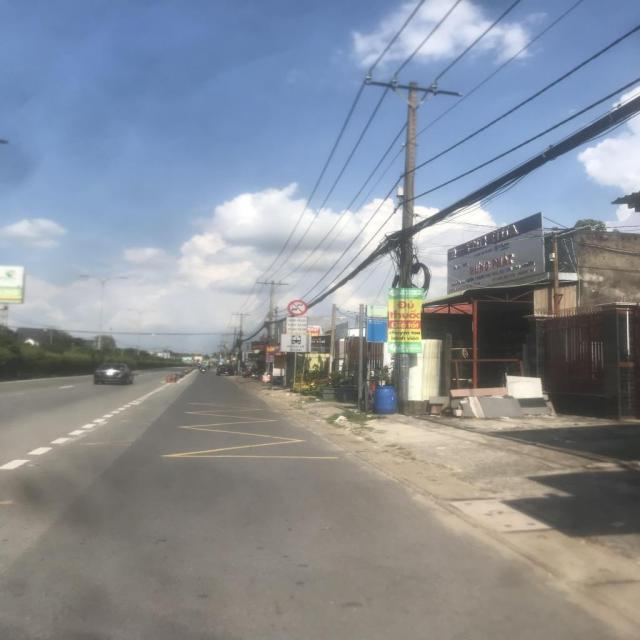107-cam-oto-khach-va-oto-tai: (288, 300, 308, 316)
